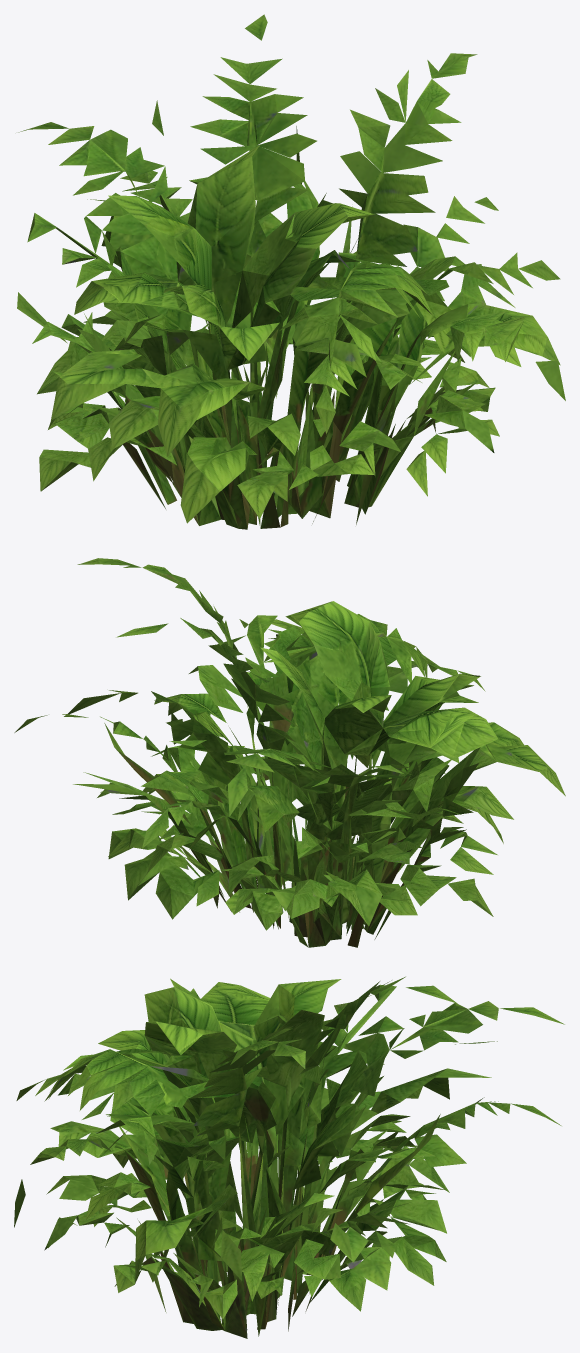
The model's file is bush_fern.glb.
The picture shows the model from 3 angles, top to bottom: view 1: azimuth 30°, elevation 25°; view 2: azimuth 150°, elevation 25°; view 3: azimuth 270°, elevation 25°; orthographic projection. The views are drawn at different scales.
Size of the model in its own units: 1.9 by 1.29 by 1.85.
Materials: 1 (1 with a texture image).
